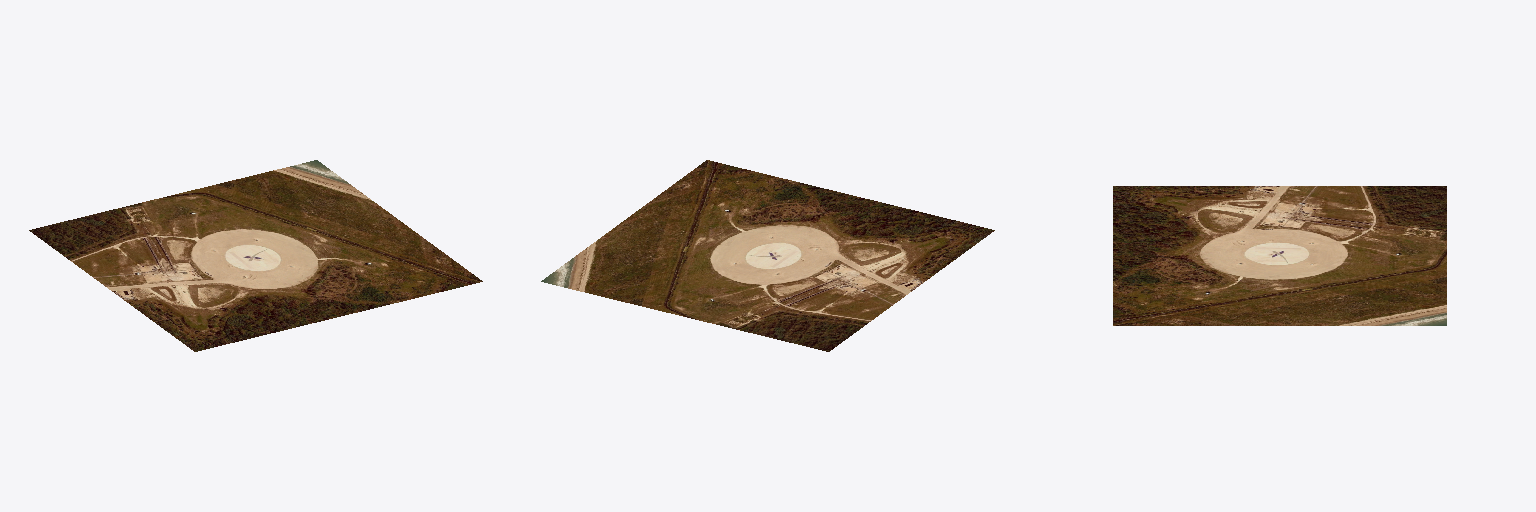
The picture shows the model from 3 angles: view 1: azimuth 30°, elevation 25°; view 2: azimuth 150°, elevation 25°; view 3: azimuth 270°, elevation 25°; orthographic projection.
Visible parts, largest first — view 1: Plane.001; view 2: Plane.001; view 3: Plane.001.
Boxes of the visible parts, <box> form: Plane.001: <box>29,160,482,351</box>; Plane.001: <box>541,160,994,351</box>; Plane.001: <box>1113,186,1446,325</box>.
Bounding box in the file's own units: 500 × 0 × 500.
1 materials, 1 textured.